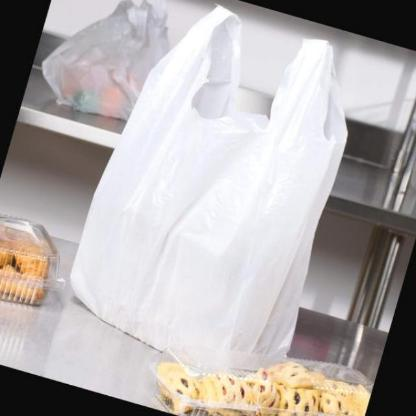Plastic Bag: (68, 7, 348, 371)
